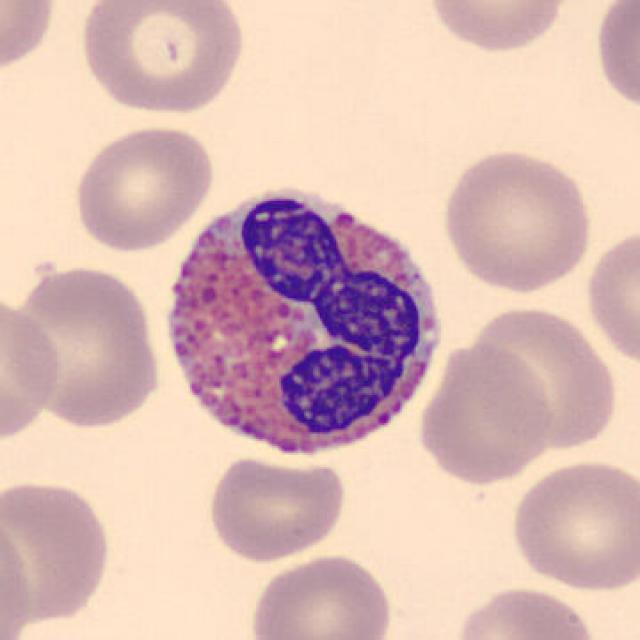Eosinophil: (148, 170, 455, 474)
RBC: (9, 261, 165, 434), (464, 300, 620, 453), (438, 144, 596, 294), (414, 336, 558, 486), (75, 0, 249, 118), (69, 122, 217, 254), (0, 474, 116, 630), (507, 455, 638, 592), (202, 455, 348, 564), (245, 550, 395, 640), (0, 291, 64, 444), (450, 582, 602, 640), (582, 220, 638, 370), (423, 0, 574, 55), (592, 0, 638, 116), (0, 499, 36, 640), (0, 0, 60, 77)
